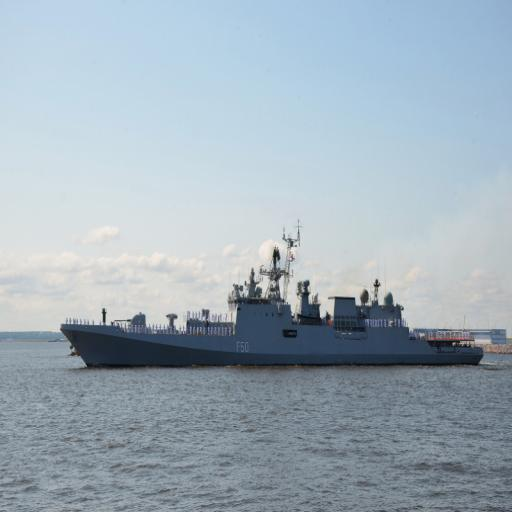Fragata: (61, 218, 488, 377)
